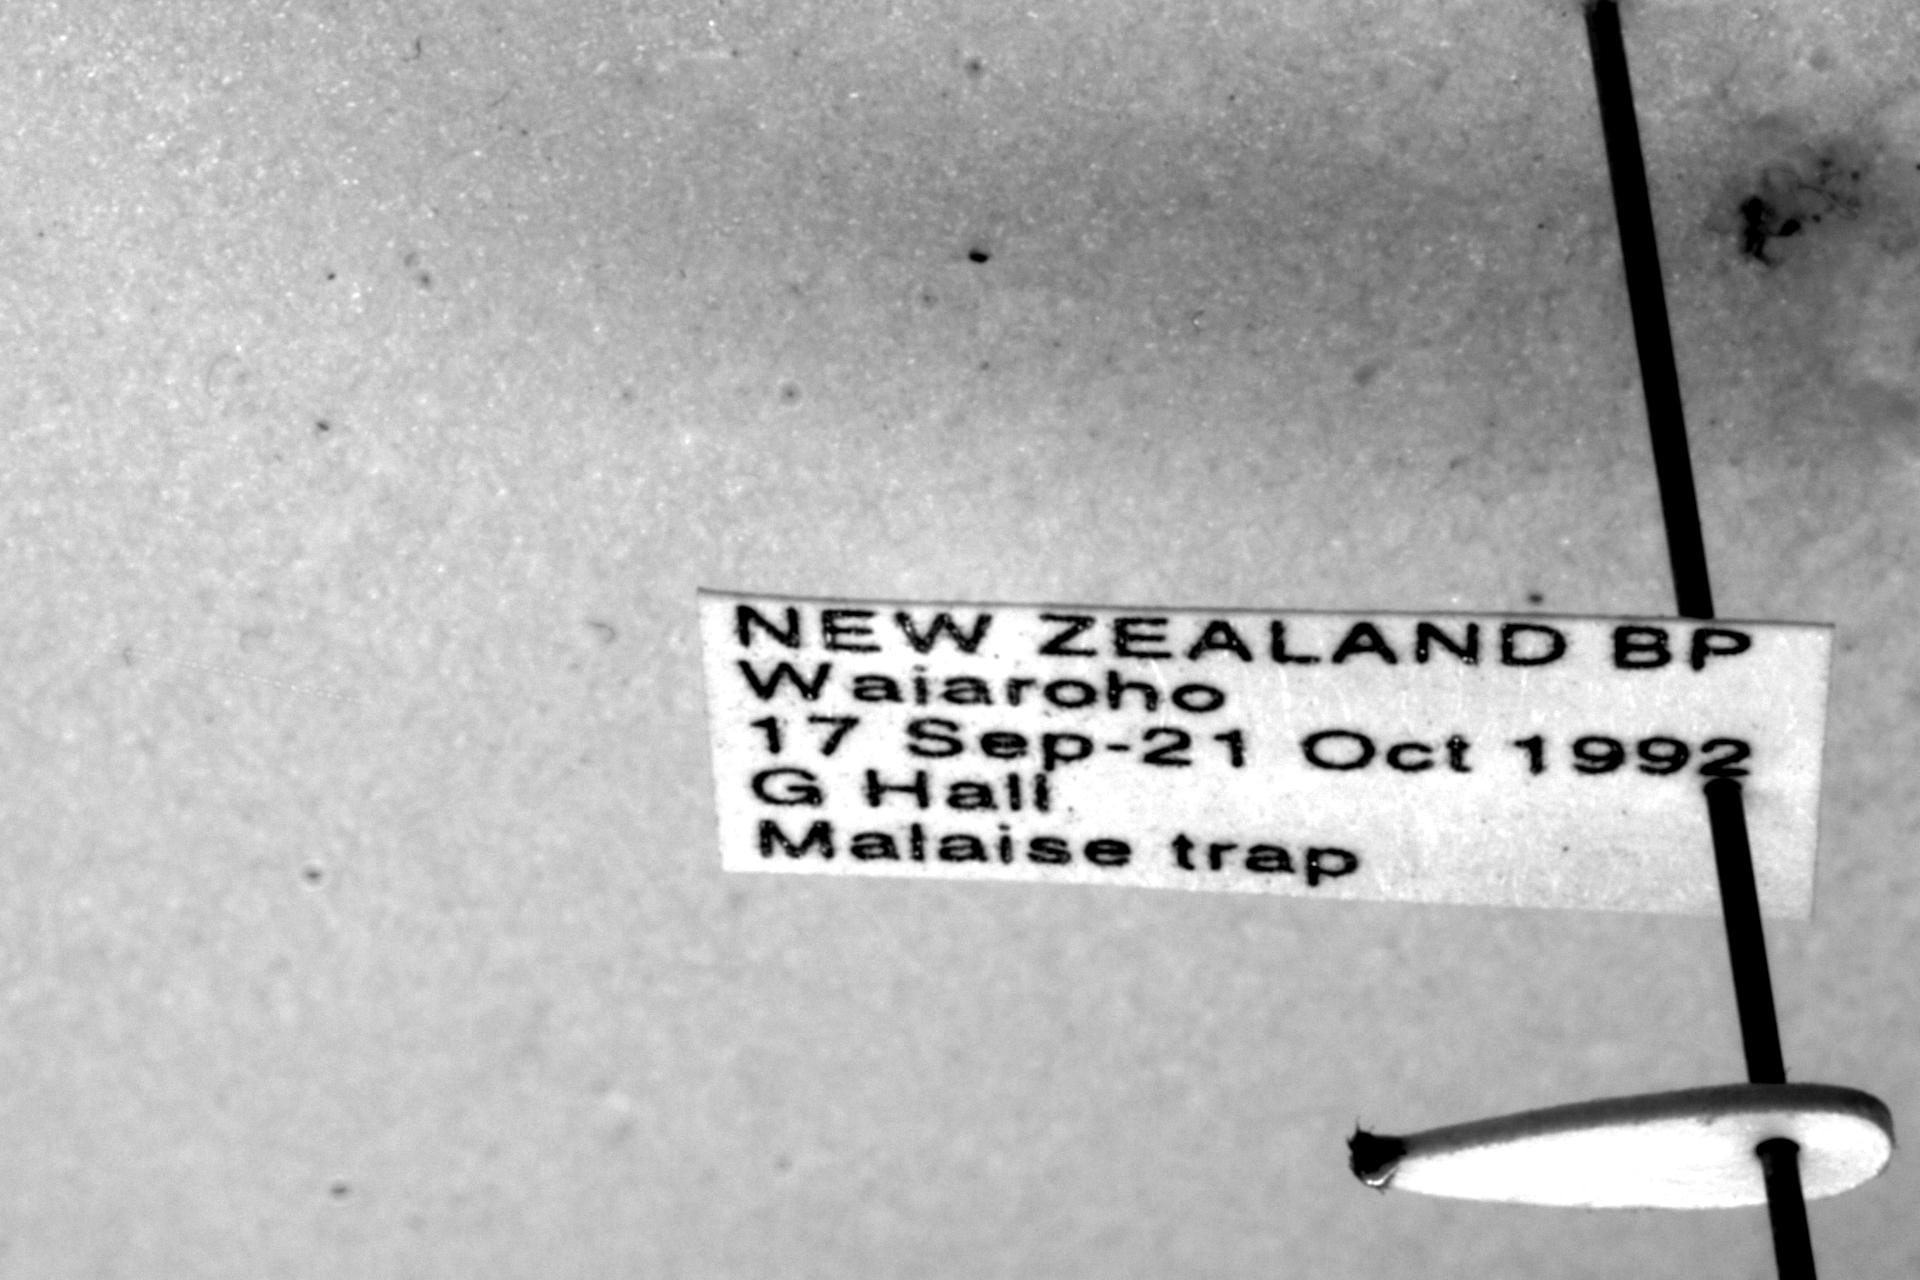typed_label: (701, 593, 1830, 919)
